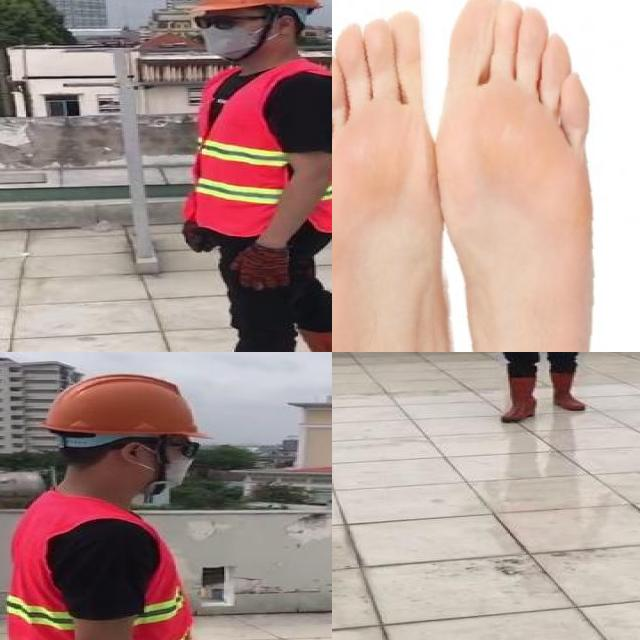Barefoots: (439, 0, 609, 352), (332, 6, 482, 352)
boots: (503, 377, 537, 423), (552, 373, 586, 411)
face_mask: (192, 9, 269, 61)
glasses: (190, 12, 252, 34)
hand_glove: (232, 242, 294, 291), (182, 220, 215, 256)
head_helmet: (42, 368, 212, 439), (188, 0, 323, 13)
person: (0, 361, 258, 640), (151, 0, 332, 352), (475, 352, 622, 422)
vest: (7, 492, 208, 640), (189, 64, 332, 234)
